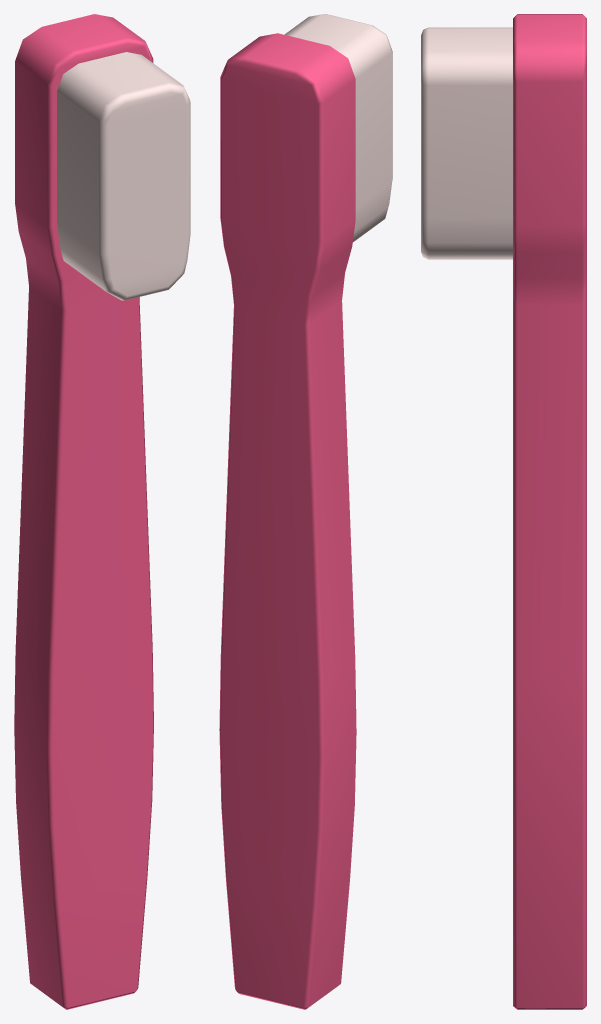
The model's file is Public_20_Toothbrush_5.glb.
The picture shows the model from 3 angles, left to right: view 1: azimuth 30°, elevation 25°; view 2: azimuth 150°, elevation 25°; view 3: azimuth 270°, elevation 25°; orthographic projection. The views are drawn at different scales.
Visible parts, largest first — view 1: Public_20_Toothbrush_5; view 2: Public_20_Toothbrush_5; view 3: Public_20_Toothbrush_5.
Part boxes in pixels (x1,y1,x2,y2): Public_20_Toothbrush_5: (14, 14, 190, 1009); Public_20_Toothbrush_5: (219, 14, 392, 1009); Public_20_Toothbrush_5: (421, 14, 586, 1009).
Bounding box in the file's own units: 0.2644 × 2.25 × 0.3504.
Materials: 1 (1 with a texture image).
